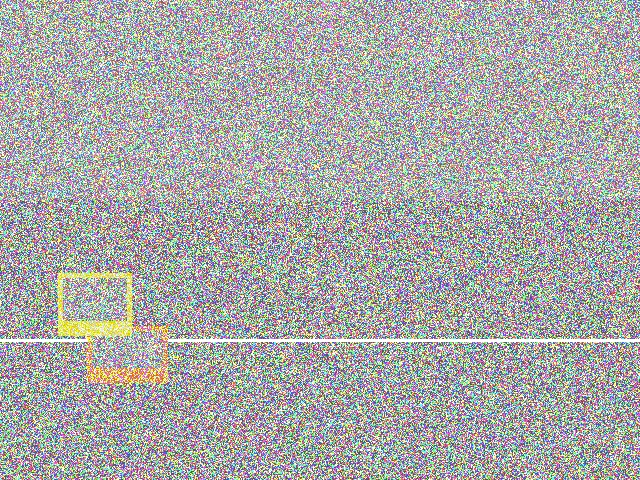bus: (341, 292, 524, 348)
truck: (478, 263, 640, 331)
